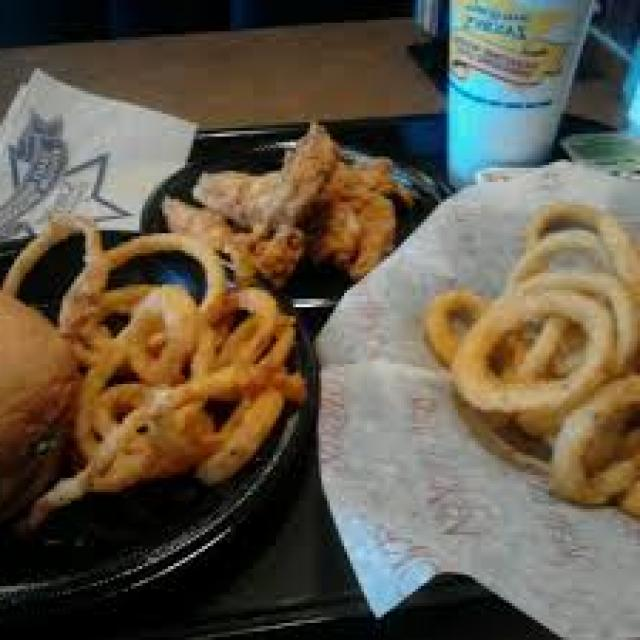Burger: (3, 273, 71, 506)
Chicken Wings: (162, 111, 421, 276)
Onion Rings: (80, 188, 637, 509)
